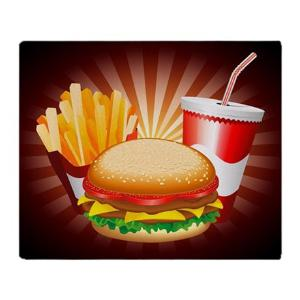cheeseburger: (85, 135, 226, 244)
fries: (35, 81, 141, 157)
